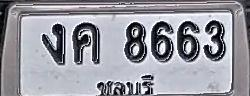3: (204, 20, 226, 61)
6: (178, 20, 200, 62), (151, 21, 173, 62)
8: (124, 22, 147, 62)
A04: (72, 22, 100, 65)
A07: (41, 23, 66, 65)
CBI: (96, 74, 154, 96)
